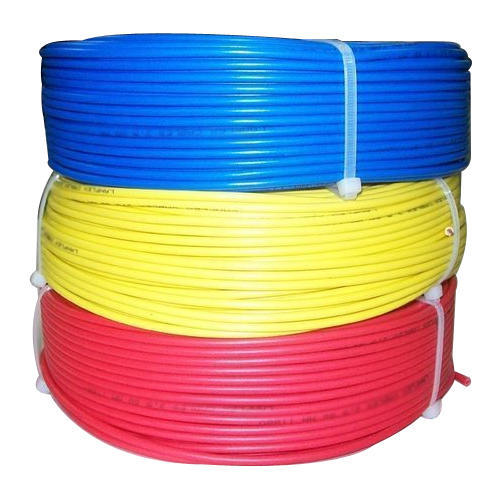Nonrec_Tangler: (18, 17, 477, 472)
